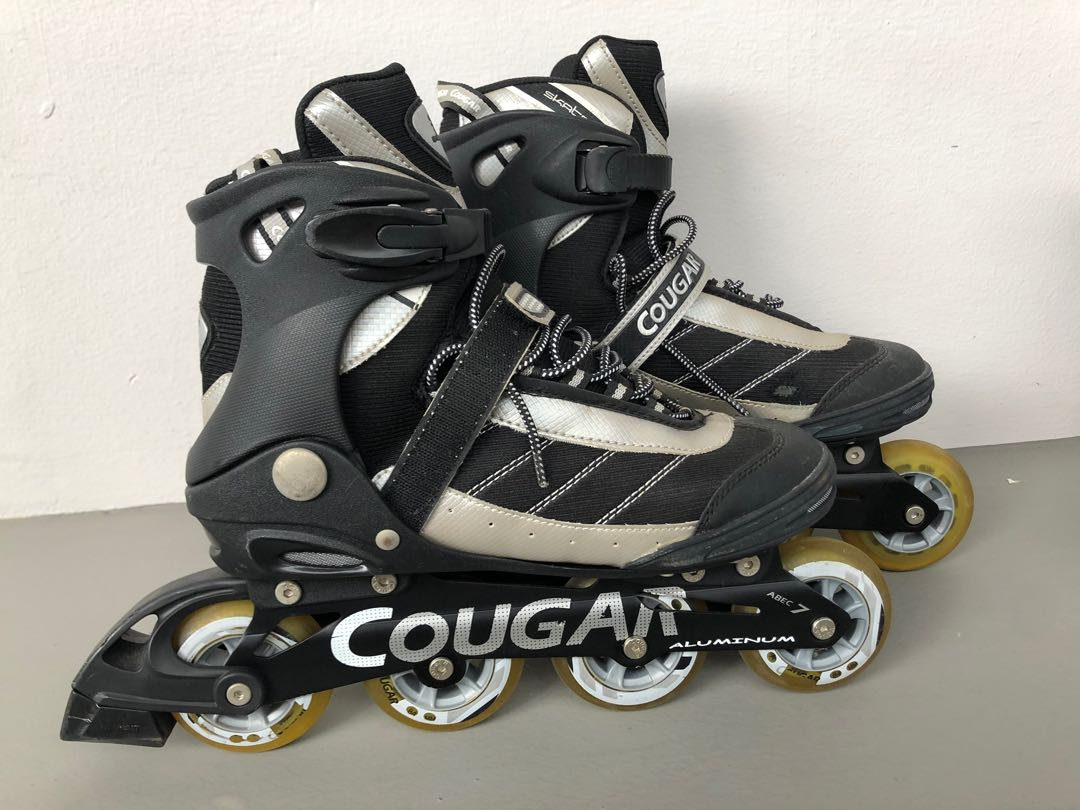roller_blade: (92, 408, 847, 666), (469, 93, 915, 401)
